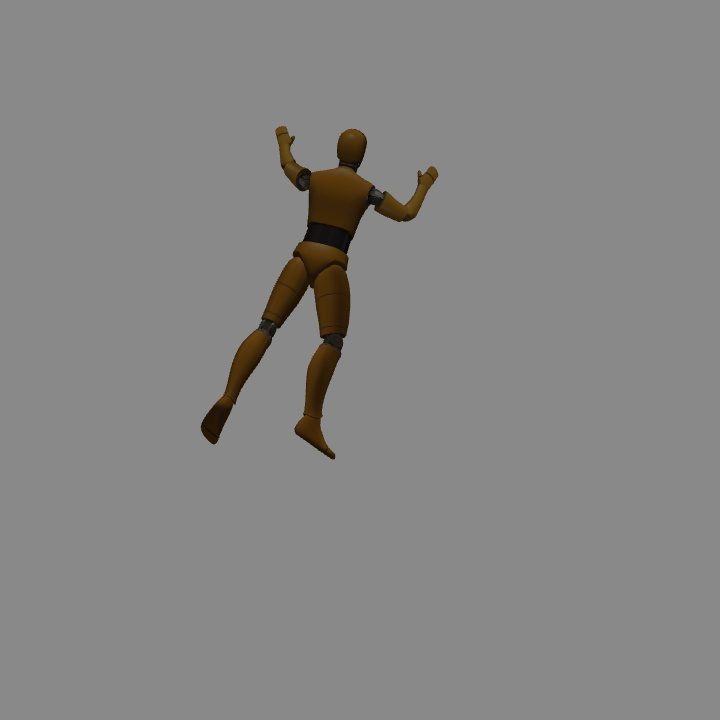victim: (275, 127, 436, 458)
